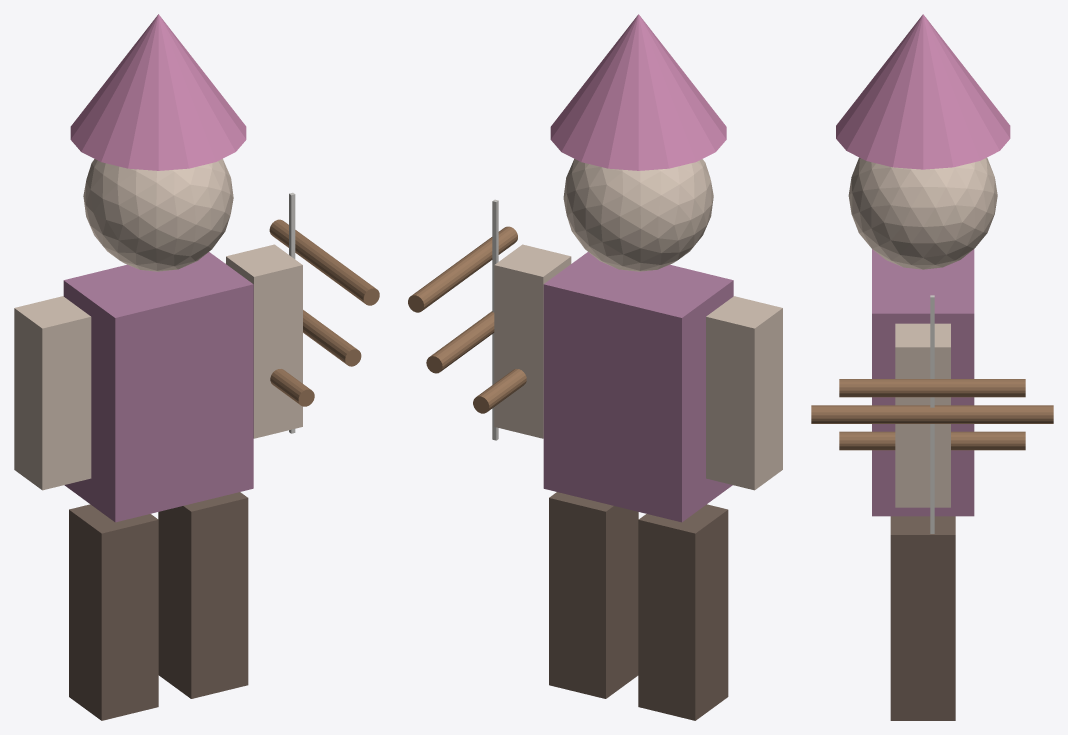
The model's file is archer.glb.
The picture shows the model from 3 angles, left to right: view 1: azimuth 30°, elevation 25°; view 2: azimuth 150°, elevation 25°; view 3: azimuth 270°, elevation 25°; orthographic projection.
Visible parts, largest first — view 1: g0, g4, g5, g6, g2, g1, g3, g8, g7, g9; view 2: g0, g4, g5, g6, g2, g1, g3, g8, g7, g9, g10; view 3: g6, g5, g0, g1, g3, g7, g8, g9, g10.
Boxes of the visible parts, bbox=[...] form: g0: bbox=[63, 252, 253, 522]; g4: bbox=[69, 504, 158, 720]; g5: bbox=[158, 492, 248, 698]; g6: bbox=[70, 14, 246, 170]; g2: bbox=[14, 296, 91, 490]; g1: bbox=[83, 158, 233, 271]; g3: bbox=[226, 244, 302, 438]; g8: bbox=[269, 219, 379, 305]; g7: bbox=[225, 263, 361, 366]; g9: bbox=[270, 369, 314, 406]; g0: bbox=[543, 252, 733, 522]; g4: bbox=[638, 504, 728, 720]; g5: bbox=[549, 492, 638, 698]; g6: bbox=[550, 14, 726, 170]; g2: bbox=[706, 296, 782, 490]; g1: bbox=[563, 159, 713, 271]; g3: bbox=[494, 244, 571, 438]; g8: bbox=[408, 226, 517, 312]; g7: bbox=[426, 311, 494, 373]; g9: bbox=[473, 369, 526, 413]; g10: bbox=[492, 199, 498, 440]; g6: bbox=[836, 14, 1010, 169]; g5: bbox=[890, 516, 955, 720]; g0: bbox=[872, 249, 974, 516]; g1: bbox=[848, 157, 997, 269]; g3: bbox=[895, 323, 950, 507]; g7: bbox=[811, 405, 1053, 423]; g8: bbox=[839, 379, 1025, 397]; g9: bbox=[839, 431, 1025, 450]; g10: bbox=[930, 295, 934, 533].
Bounding box in the file's own units: 0.6989 × 1.46 × 0.4784.
